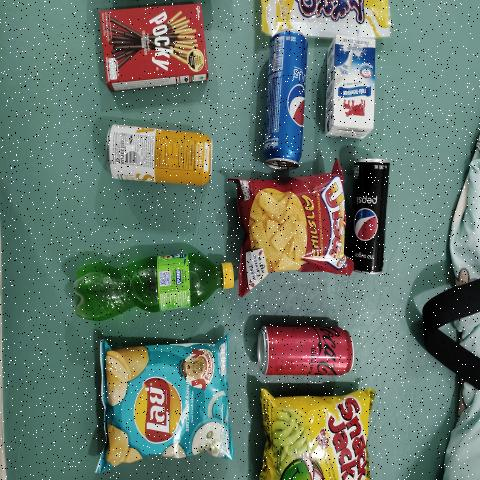coke_red: (262, 326, 357, 385)
fanta_green: (74, 257, 233, 313)
lay_blue: (104, 352, 226, 453)
party_red: (244, 181, 344, 269)
pepsi_black: (357, 163, 387, 273)
pepsi_blue: (267, 35, 305, 161)
pokki: (100, 9, 204, 83)
singha_yellow: (109, 124, 214, 190)
snack_jack: (265, 399, 365, 480)
thai_denmark: (329, 40, 371, 136)
